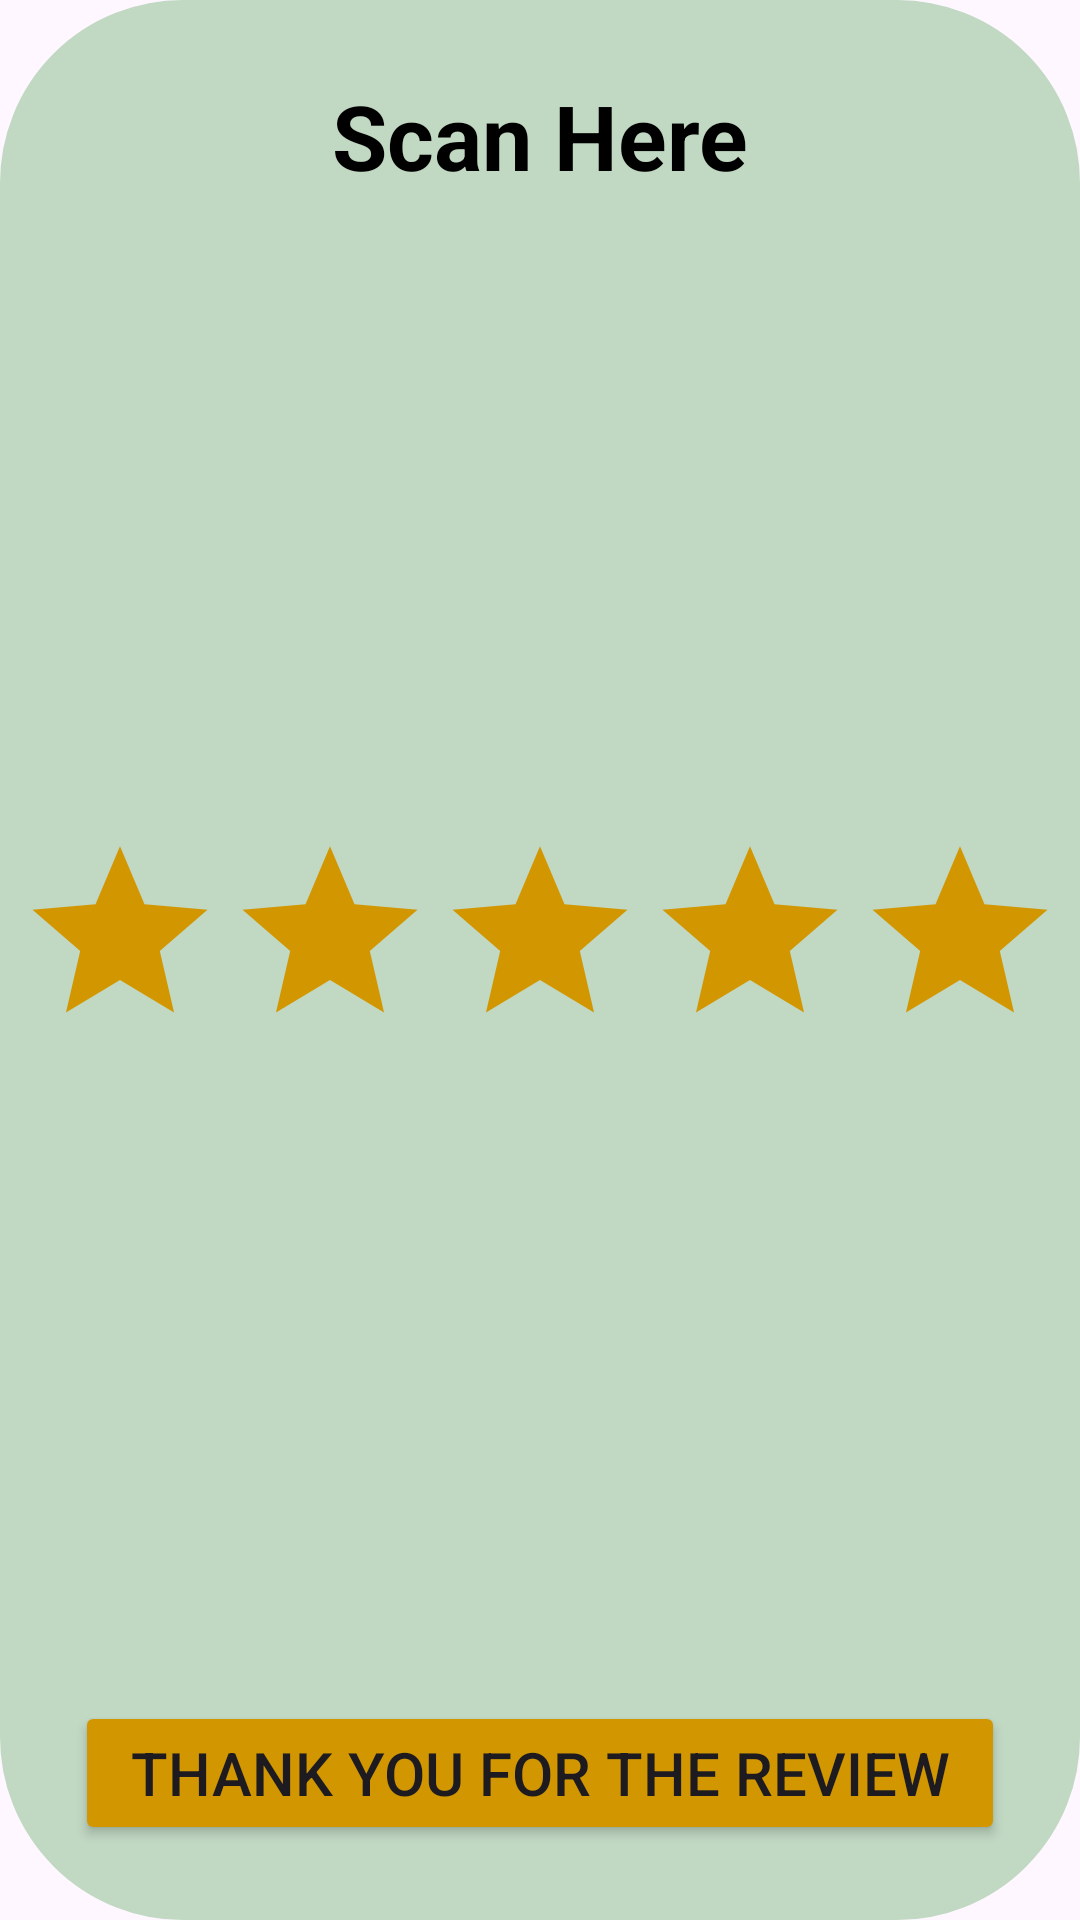

Icons on this 1080×1920 Android screen, each with the point to tap as (x=x, y=y):
star bright: (x=120, y=930), (x=330, y=930), (x=540, y=930), (x=750, y=930), (x=960, y=930)
